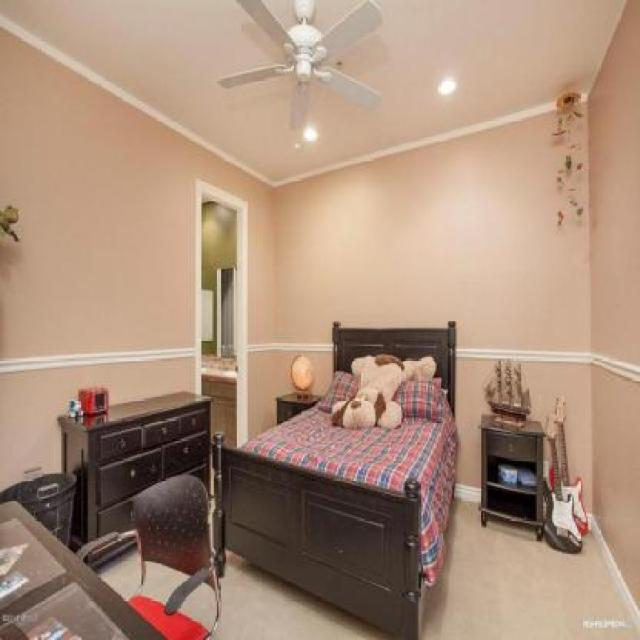Floor: (418, 496, 640, 638), (213, 549, 401, 639), (96, 546, 141, 600), (140, 560, 190, 604), (178, 581, 217, 632), (209, 452, 215, 553)
